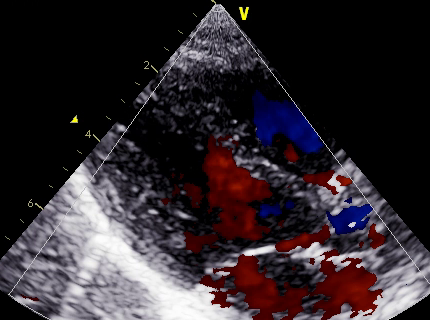AR: (193, 168, 289, 244)
